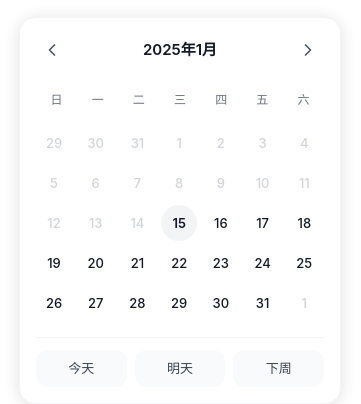
Test: DateDropdown › month navigation › navigates to next month when clicking next button
The width and height of the screenshot is (361, 404).
(page scrolled)
Step 1. Click the button named "下个月" → (308, 50), box [292,34,324,66]
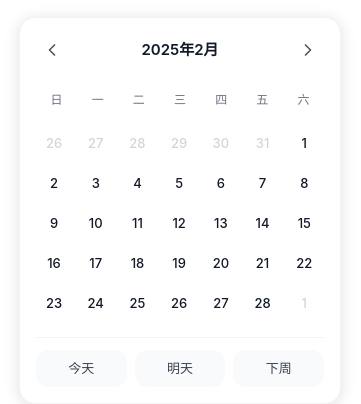
Expected: the heading "2025年2月" is shown, [141,38,218,62]
